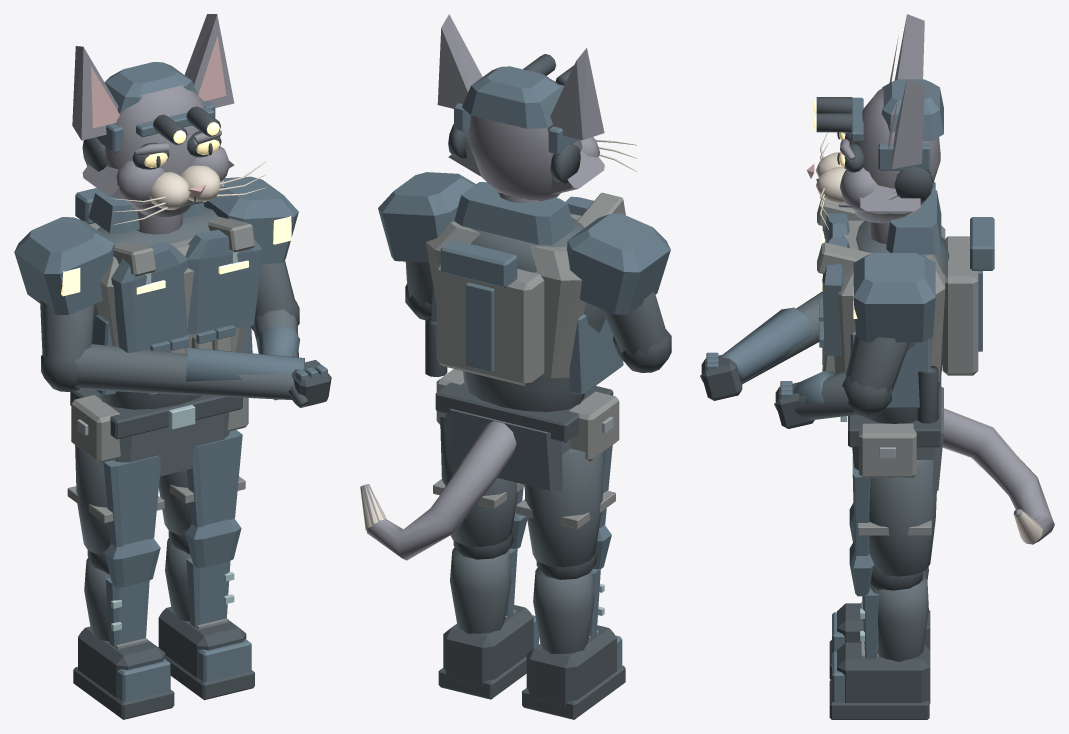
File: cat_stalker.glb
The picture shows the model from 3 angles, left to right: view 1: azimuth 30°, elevation 25°; view 2: azimuth 150°, elevation 25°; view 3: azimuth 270°, elevation 25°; orthographic projection. The views are drawn at different scales.
Visible parts, largest first — view 1: forearm_L_59, shoulder_L_60, chest_plate_14, chest_plate_3, head_82, thigh_plate_29, thigh_plate_44, shoulder_R_71, pelvis_27, torso_1, boot_50, forearm_guard_L_63 (+45 smaller); view 2: backpack_119, shoulder_L_60, tail_117, thigh_28, carrier_2, head_82, shoulder_R_71, torso_1, pelvis_27, neck_guard_81, helmet_crown_110, boot_35 (+28 smaller); view 3: shoulder_R_71, thigh_43, tail_117, backpack_119, boot_50, calf_48, forearm_guard_L_63, hip_pouch_23, carrier_2, head_82, upper_arm_R_69, neck_guard_81 (+33 smaller).
Part boxes in pixels (box(x1,y1,x2,y2)): forearm_L_59: box(74, 344, 294, 399); shoulder_L_60: box(14, 217, 114, 314); chest_plate_14: box(185, 229, 262, 334); chest_plate_3: box(111, 241, 187, 352); head_82: box(105, 85, 204, 217); thigh_plate_29: box(103, 455, 160, 546); thigh_plate_44: box(186, 430, 242, 527); shoulder_R_71: box(203, 176, 298, 264); pelvis_27: box(115, 412, 229, 476); torso_1: box(93, 207, 217, 409); boot_50: box(158, 607, 246, 677); forearm_guard_L_63: box(186, 347, 304, 381); backpack_119: box(436, 263, 544, 386); shoulder_L_60: box(567, 213, 670, 314); tail_117: box(362, 420, 516, 560); thigh_28: box(524, 449, 603, 567); carrier_2: box(426, 214, 585, 378); head_82: box(467, 70, 582, 200); shoulder_R_71: box(378, 172, 475, 262); torso_1: box(463, 218, 605, 411); pelvis_27: box(445, 408, 570, 490); neck_guard_81: box(454, 182, 574, 245); helmet_crown_110: box(462, 66, 561, 128); boot_35: box(526, 625, 616, 706); shoulder_R_71: box(853, 253, 935, 342); thigh_43: box(869, 460, 936, 576); tail_117: box(942, 408, 1054, 544); backpack_119: box(942, 236, 978, 375); boot_50: box(837, 642, 930, 703); calf_48: box(870, 574, 928, 661); forearm_guard_L_63: box(719, 307, 812, 383); hip_pouch_23: box(859, 423, 916, 477); carrier_2: box(834, 220, 945, 381); head_82: box(851, 87, 940, 223); upper_arm_R_69: box(845, 334, 909, 394); neck_guard_81: box(886, 187, 941, 254).
Bounding box in the file's own units: 1.07 × 2.59 × 1.29.
